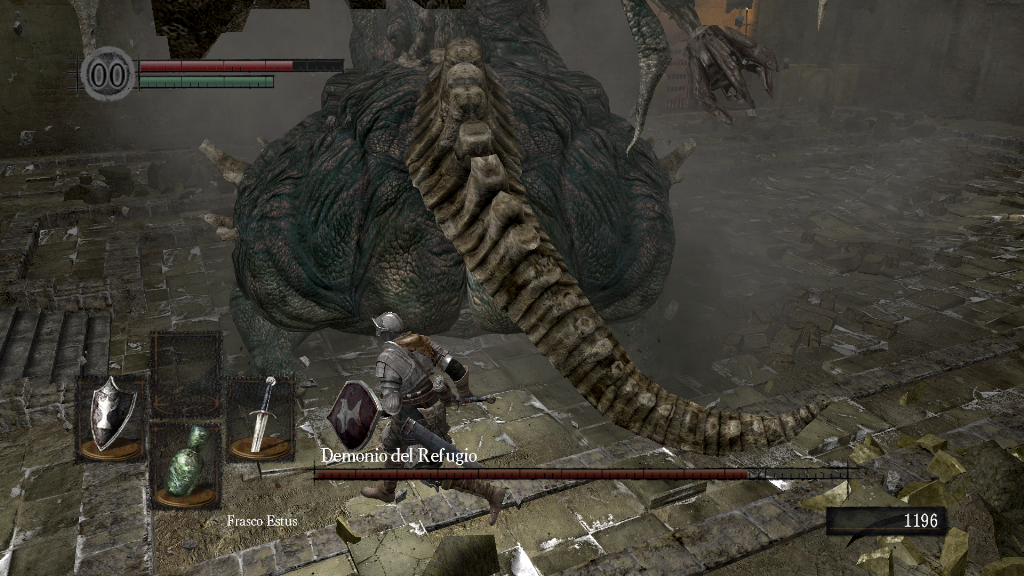asylumDemon: (149, 2, 832, 455)
bossHP: (314, 469, 847, 479)
health: (138, 58, 343, 71)
humanity: (80, 45, 136, 102)
player: (325, 308, 510, 528)
souls: (825, 506, 945, 536)
stamina: (138, 74, 274, 88)
